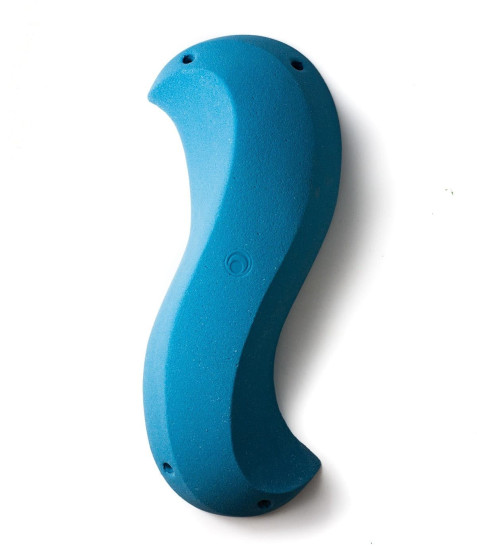hold: (141, 33, 338, 511)
